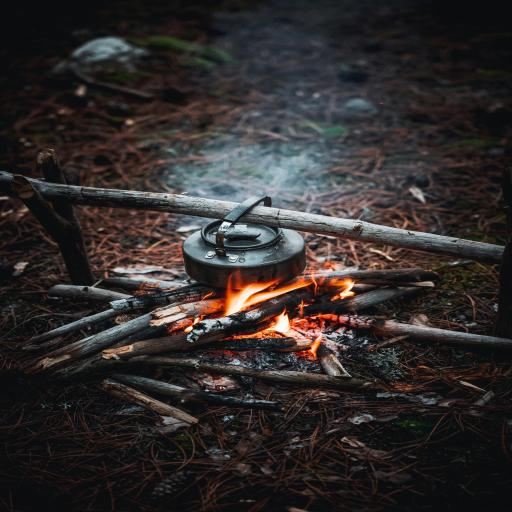campfire: (0, 149, 512, 389)
fire: (186, 277, 317, 344), (196, 298, 217, 316)
